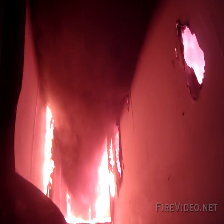fire_h: (96, 140, 116, 223), (181, 27, 206, 84), (44, 106, 55, 195), (65, 193, 97, 223), (115, 126, 122, 176)
fire_l: (109, 139, 115, 170)
